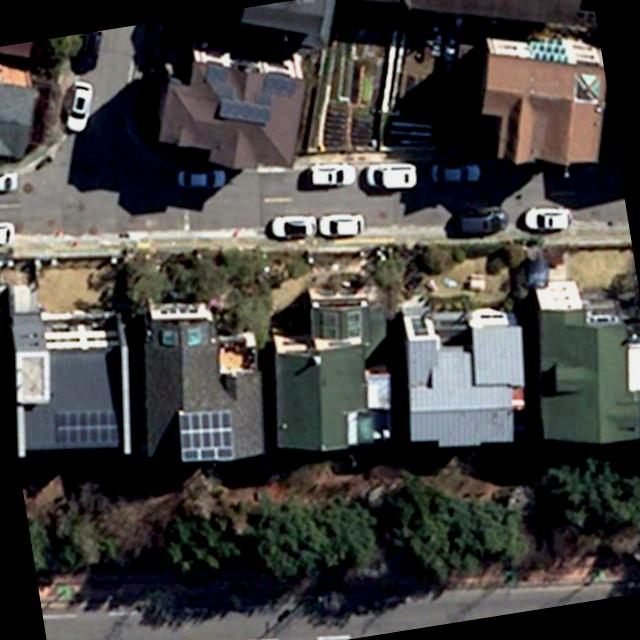solar: (172, 402, 243, 470), (52, 403, 128, 458)
